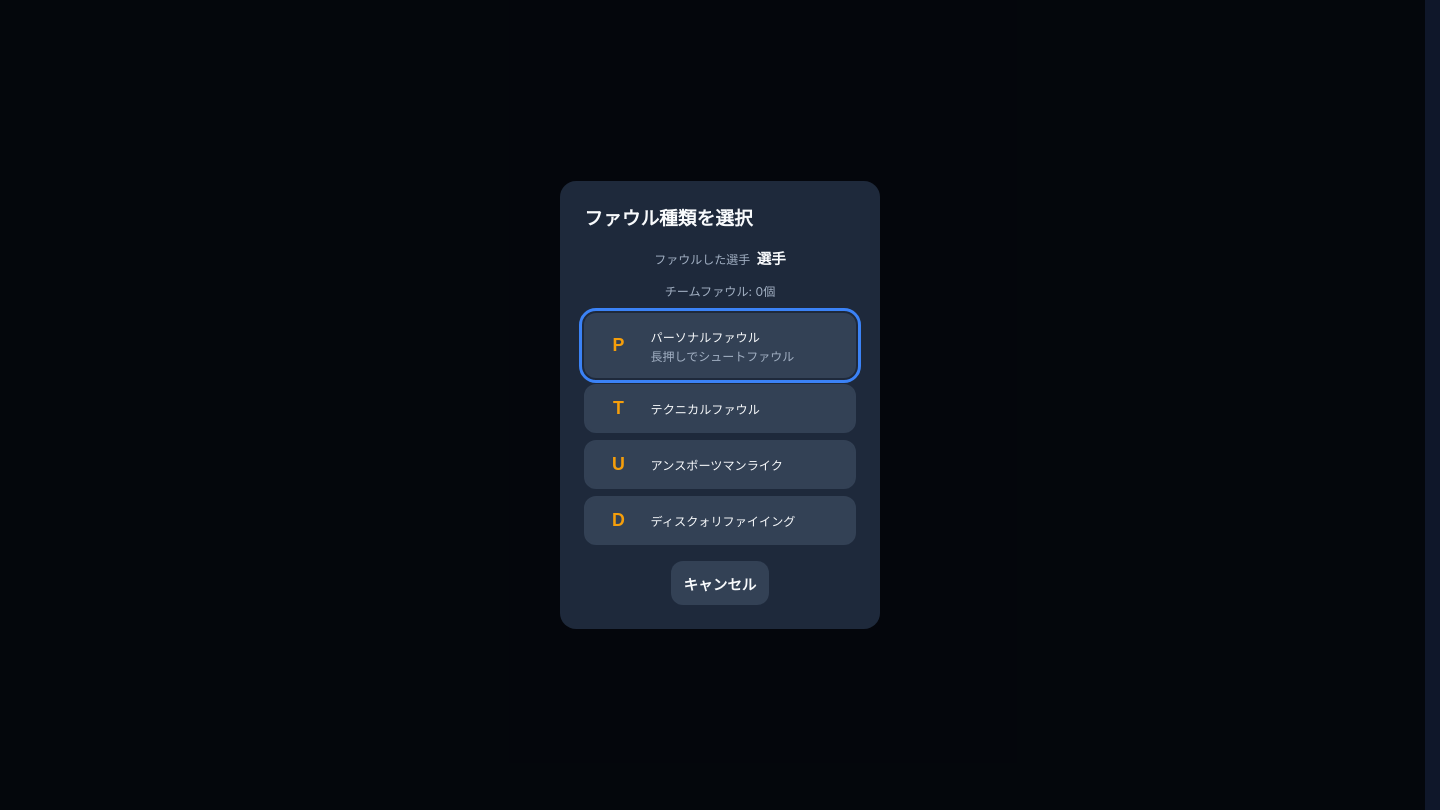
Scenario: FoulInputFlow: 3P非表示時のシュートファウル › showThreePoint=falseのときシュート結果画面から戻るとファウル種類選択に戻る
Press the mouse on the button "P パーソナルファウル 長押しでシュートファウル" at (720, 346), box x1=584 y1=314 x2=856 y2=378
Wait 600 ms
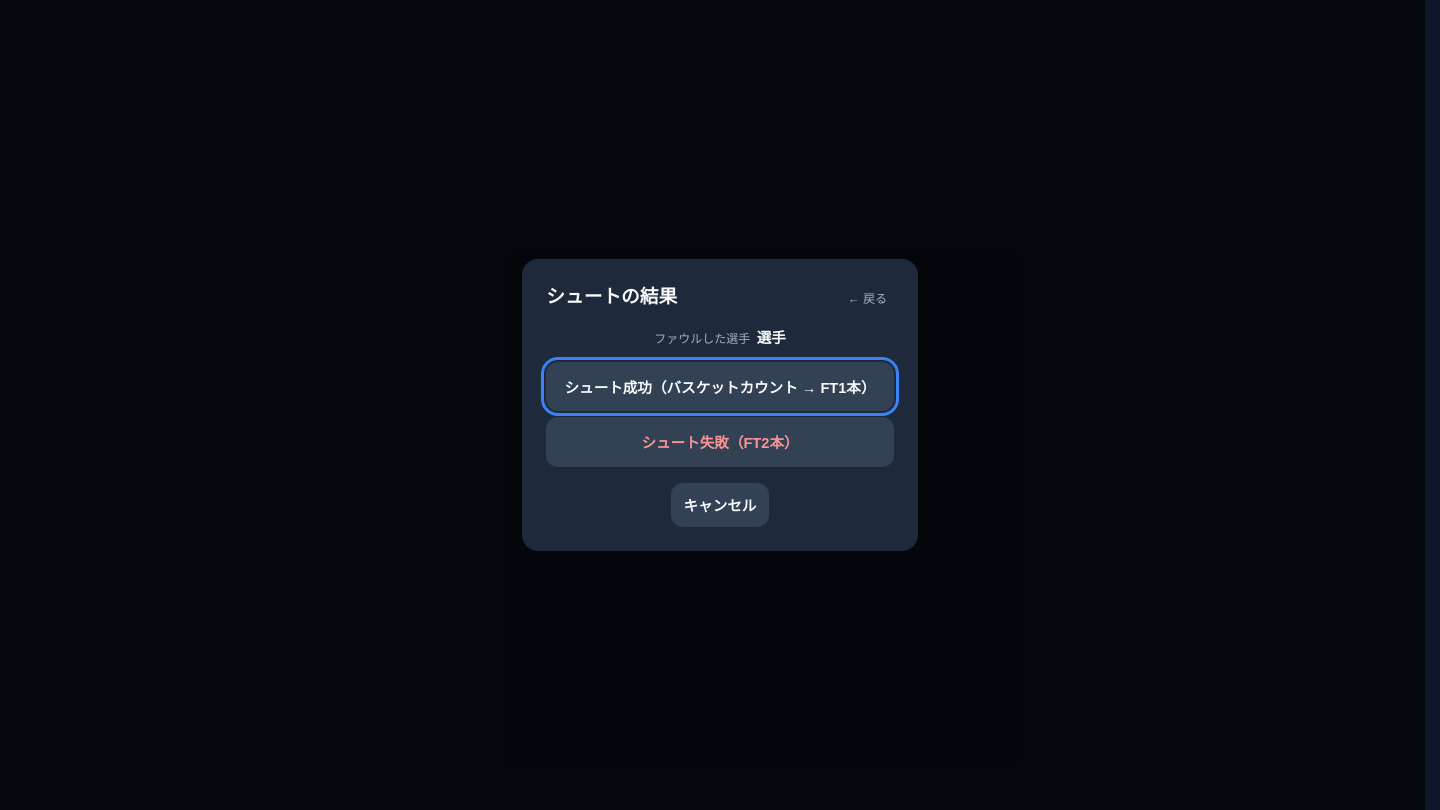
Click the button "← 戻る".
click(867, 297)  # box x1=841 y1=286 x2=894 y2=309
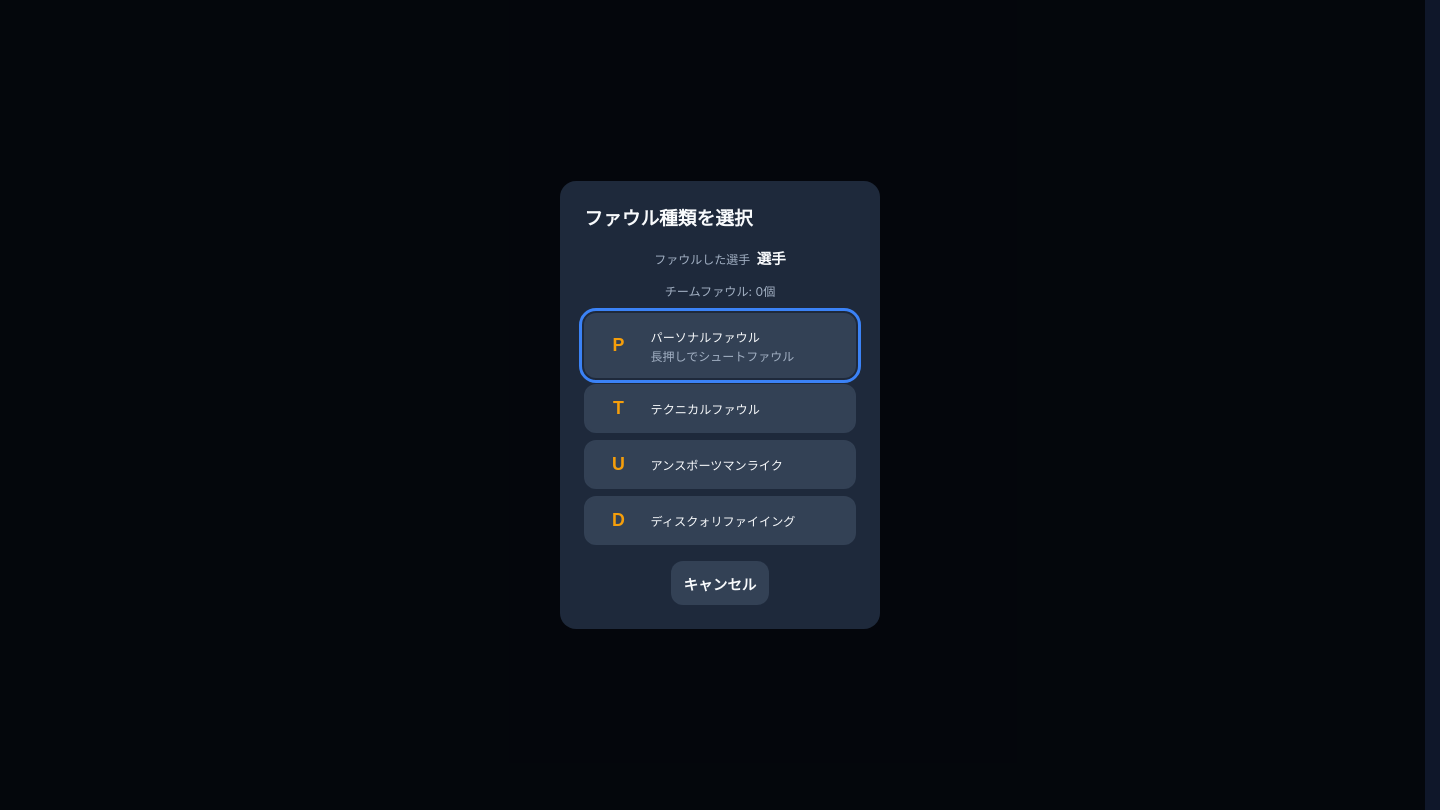
Check: the heading "ファウル種類を選択" is shown, box x1=584 y1=205 x2=753 y2=233
Check: the text "パーソナルファウル" is shown, box x1=651 y1=328 x2=760 y2=345
